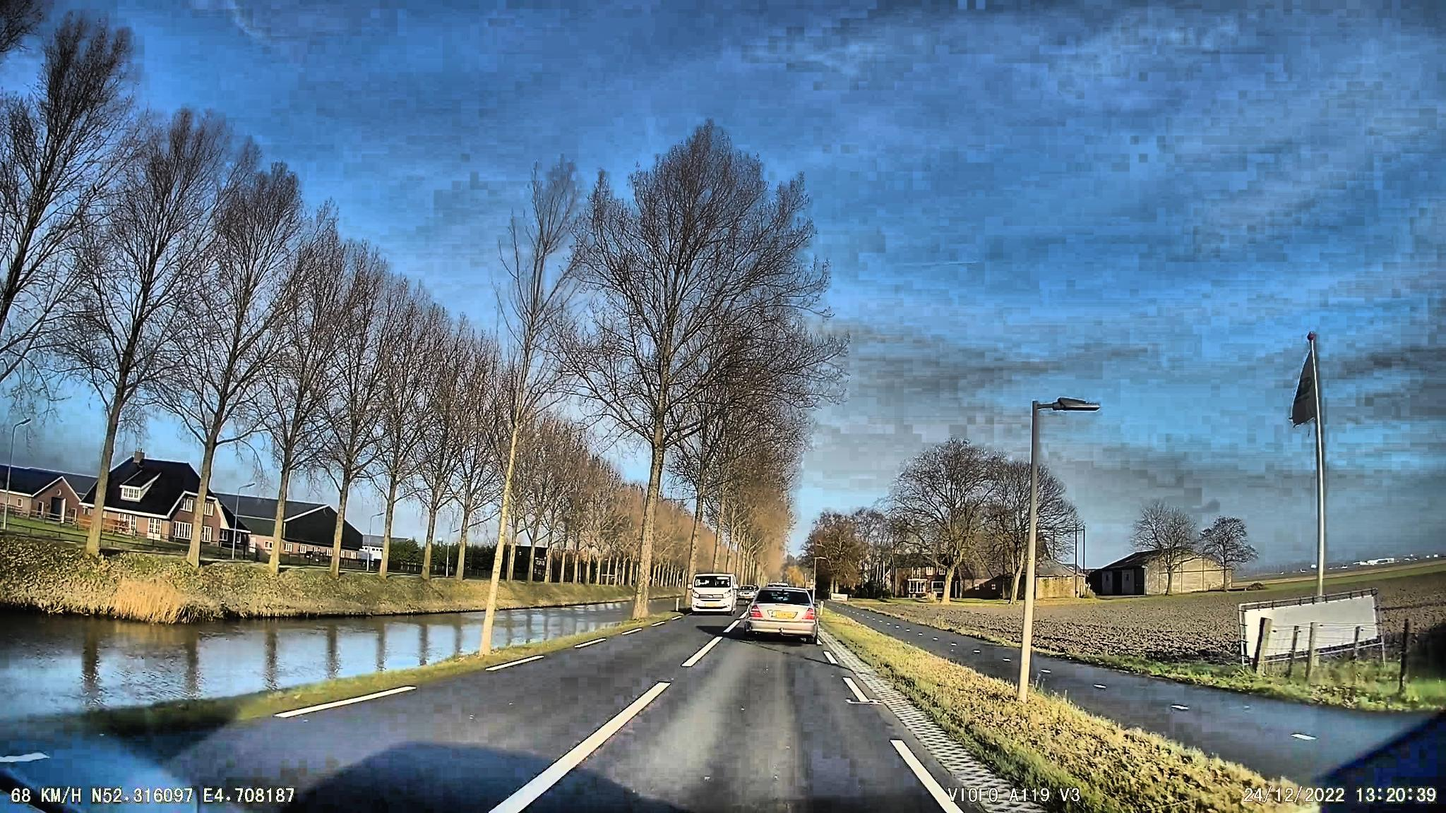Roads: (0, 621, 966, 813)
